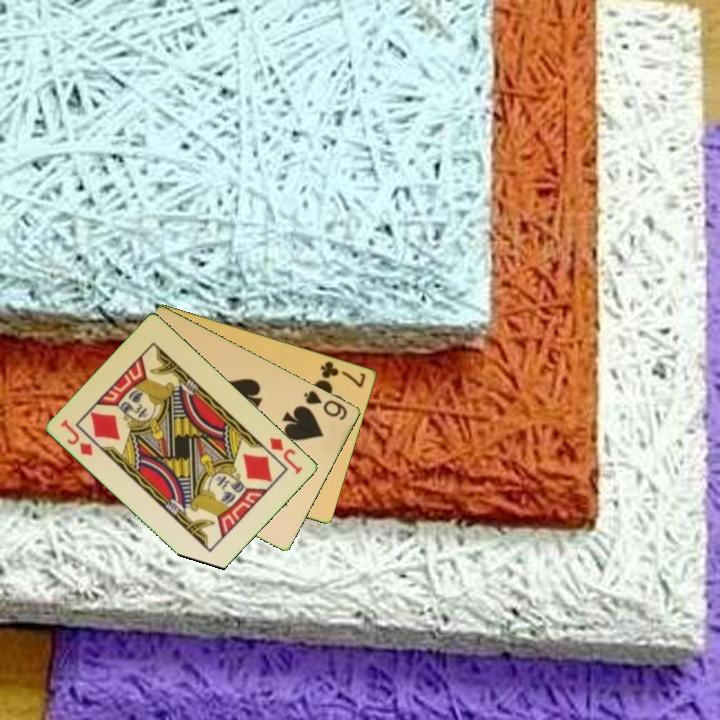6s: (300, 386, 351, 423)
7c: (317, 357, 369, 390)
Jd: (266, 434, 306, 477), (57, 416, 96, 459)
